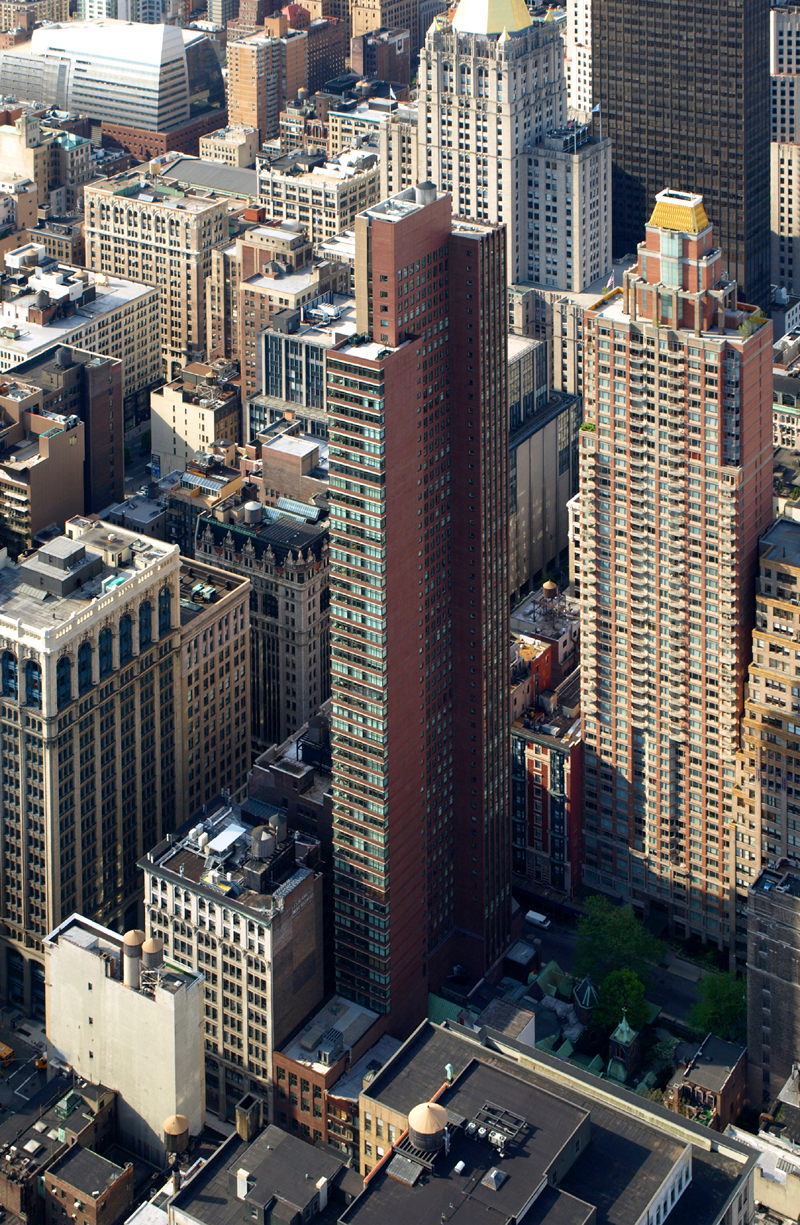Sky Building: (309, 187, 538, 994), (567, 191, 763, 1018), (15, 526, 271, 945)
